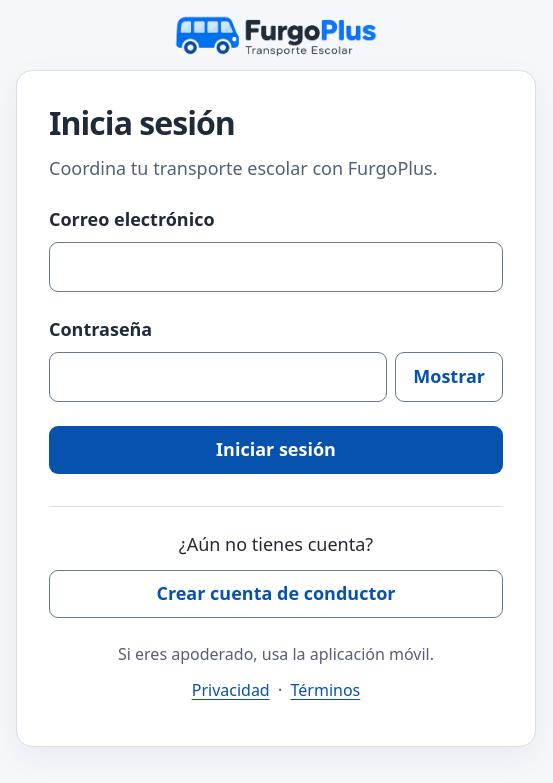
Test: login shows associated Spanish required errors without native validation
Expected: the heading "Inicia sesión" is shown, [49,101,235,144]
Step 1. Click the button "Iniciar sesión" → (276, 450), box [49,426,503,474]
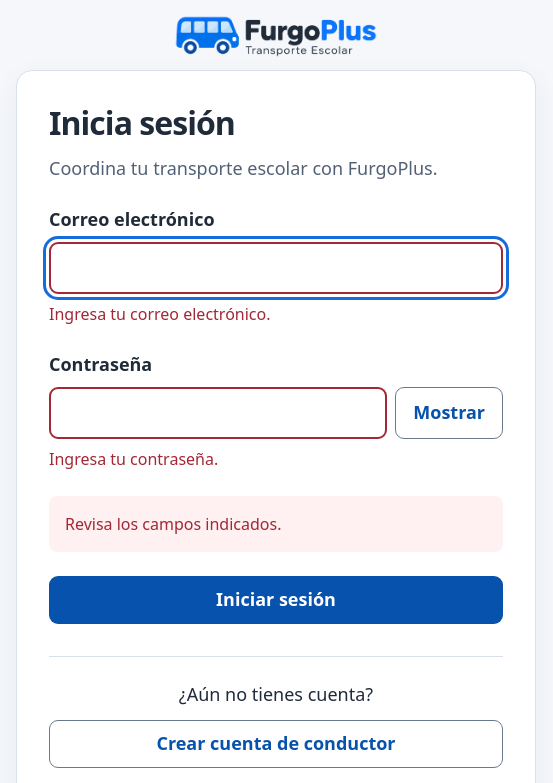
Now the message reads "Revisa los campos indicados.", box [65,513,281,535]
